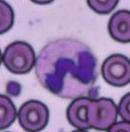N: (35, 38, 99, 98)
